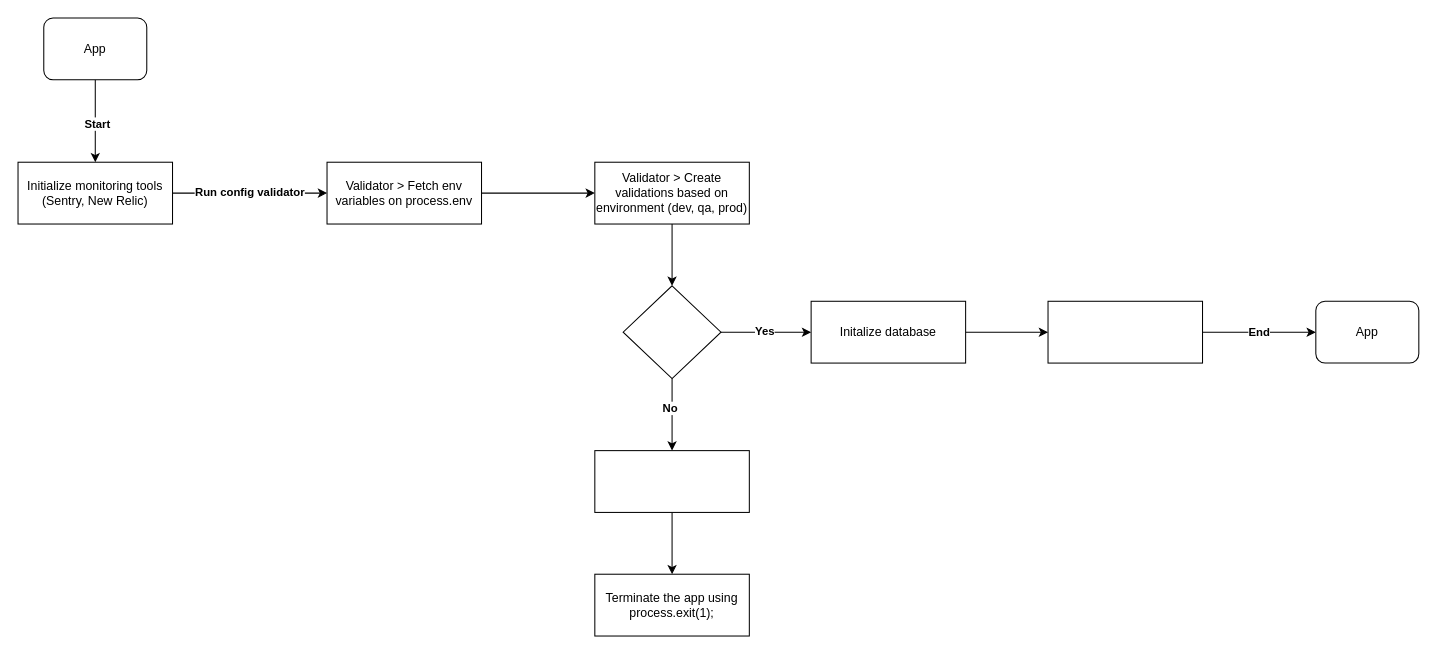
Image size: 1437x654. Some labels were removed from this diagram. The shapes that lost their labels are listed below. From the top down, each one's box as (x1, y1, x2, y2) in pixels, then its label:
(622, 285, 721, 379): Validation passed?
(1047, 300, 1203, 363): Start Node server, initialize feature flags, etc.
(594, 450, 749, 512): Validator > Send error report to Sentry
